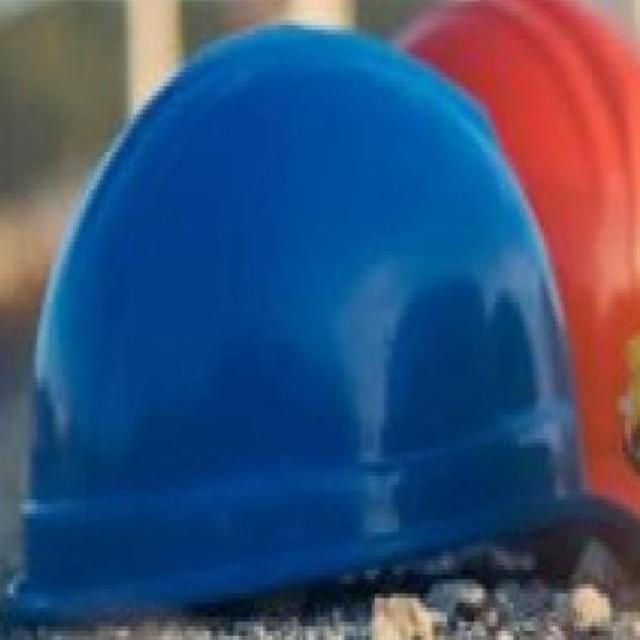blue helmet: (3, 17, 640, 636)
red helmet: (372, 1, 640, 547)
